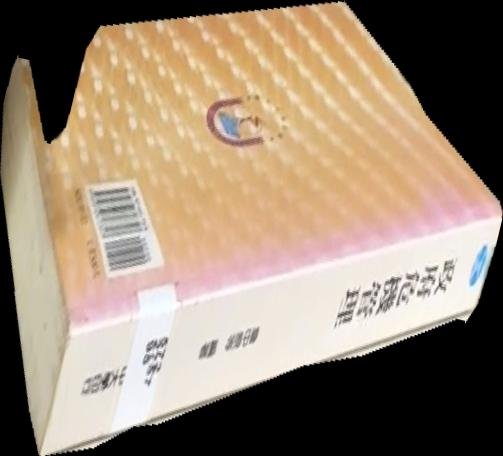flat: (1, 1, 503, 456)
